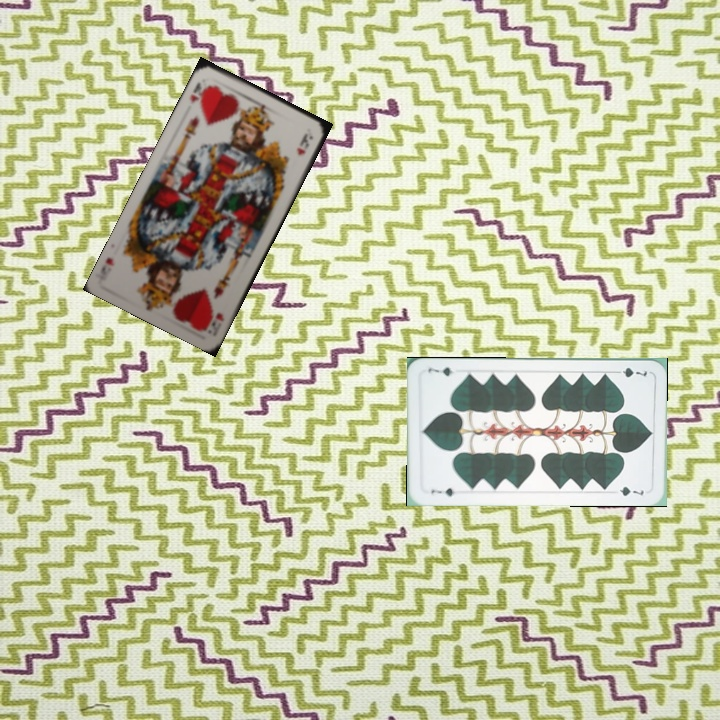G7: (610, 363, 649, 380), (427, 484, 457, 499)
HK: (186, 78, 212, 107), (207, 308, 227, 334)
